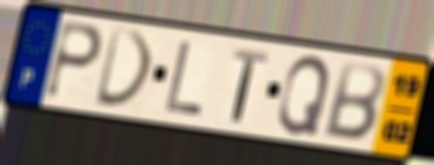B: (320, 58, 387, 144)
D: (92, 24, 157, 111)
L: (162, 38, 206, 119)
P: (41, 18, 106, 103)
Q: (275, 53, 333, 138)
T: (230, 46, 271, 126)
